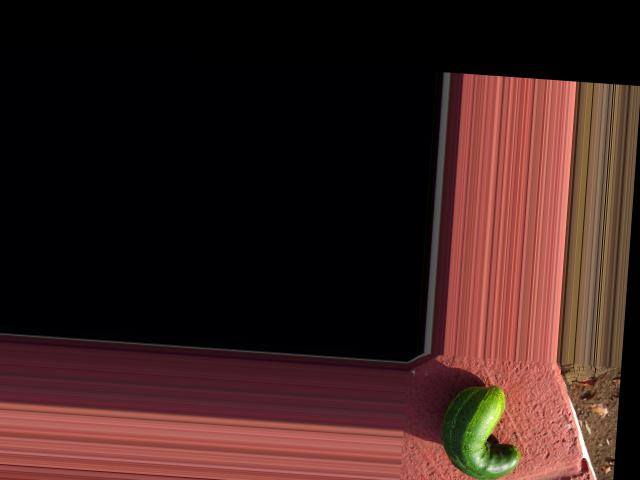cucumber: (439, 382, 526, 480)
